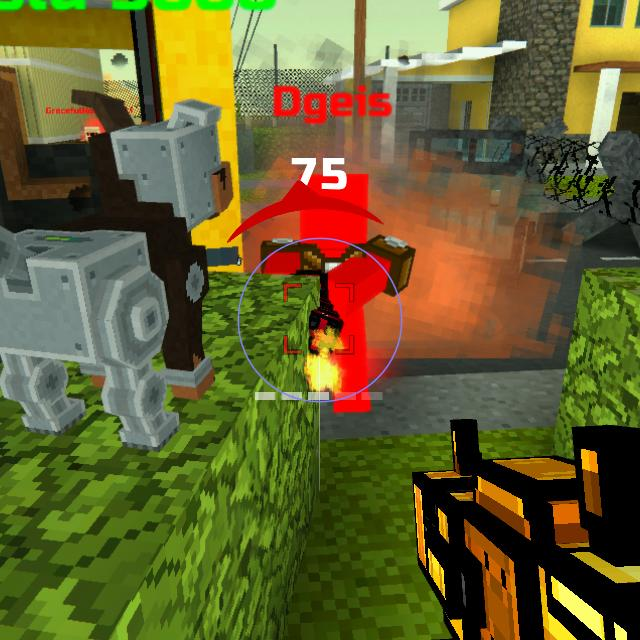Enemy: (260, 174, 416, 413), (85, 127, 102, 141)
